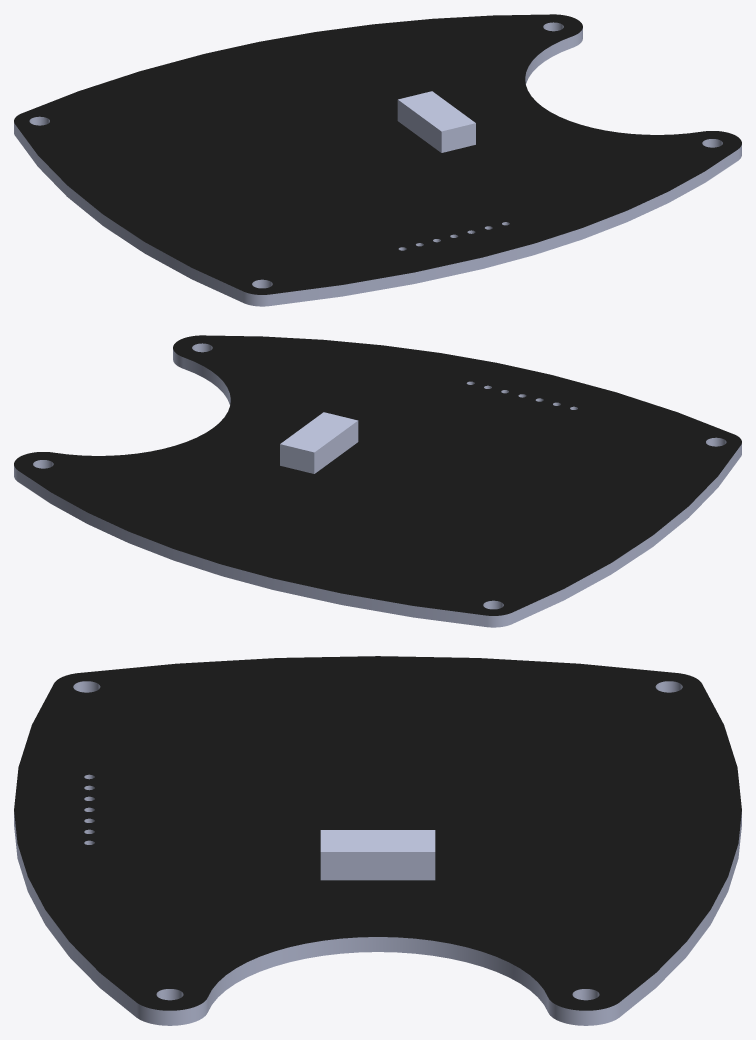
Rendered from Default__12_STEP_1_RP_lidar_A1_igs_STEP_1_devboard_igs_STEP_1_solid1.obj.
3 views of the same model, one above another, from view 1: azimuth 30°, elevation 25°; view 2: azimuth 150°, elevation 25°; view 3: azimuth 270°, elevation 25° (orthographic). The views are drawn at different scales.
Visible parts, largest first — view 1: mesh3208, mesh3214, mesh3217, mesh3215, mesh3233, mesh3231, mesh3232, mesh3212; view 2: mesh3208, mesh3210, mesh3217, mesh3209, mesh3233, mesh3231, mesh3230, mesh3212; view 3: mesh3208, mesh3212, mesh3229, mesh3233, mesh3210, mesh3214, mesh3211, mesh3213.
Part boxes in pixels (bbox=[...]): mesh3208: bbox=[14, 14, 741, 294]; mesh3214: bbox=[483, 150, 737, 268]; mesh3217: bbox=[14, 124, 244, 302]; mesh3215: bbox=[269, 257, 482, 305]; mesh3233: bbox=[398, 91, 475, 131]; mesh3231: bbox=[397, 100, 441, 152]; mesh3232: bbox=[441, 123, 475, 152]; mesh3212: bbox=[525, 36, 572, 84]; mesh3208: bbox=[14, 335, 741, 615]; mesh3210: bbox=[18, 471, 272, 589]; mesh3217: bbox=[511, 445, 741, 623]; mesh3209: bbox=[273, 578, 486, 626]; mesh3233: bbox=[280, 412, 357, 452]; mesh3231: bbox=[314, 421, 358, 473]; mesh3230: bbox=[280, 444, 314, 473]; mesh3212: bbox=[183, 357, 230, 405]; mesh3208: bbox=[14, 656, 741, 1010]; mesh3212: bbox=[208, 937, 547, 1011]; mesh3229: bbox=[320, 852, 435, 880]; mesh3233: bbox=[320, 830, 435, 851]; mesh3210: bbox=[619, 812, 741, 1017]; mesh3214: bbox=[14, 812, 136, 1017]; mesh3211: bbox=[548, 997, 619, 1025]; mesh3213: bbox=[136, 997, 207, 1025].
Bounding box in the file's own units: 0.0807 × 0.00764 × 0.07.
